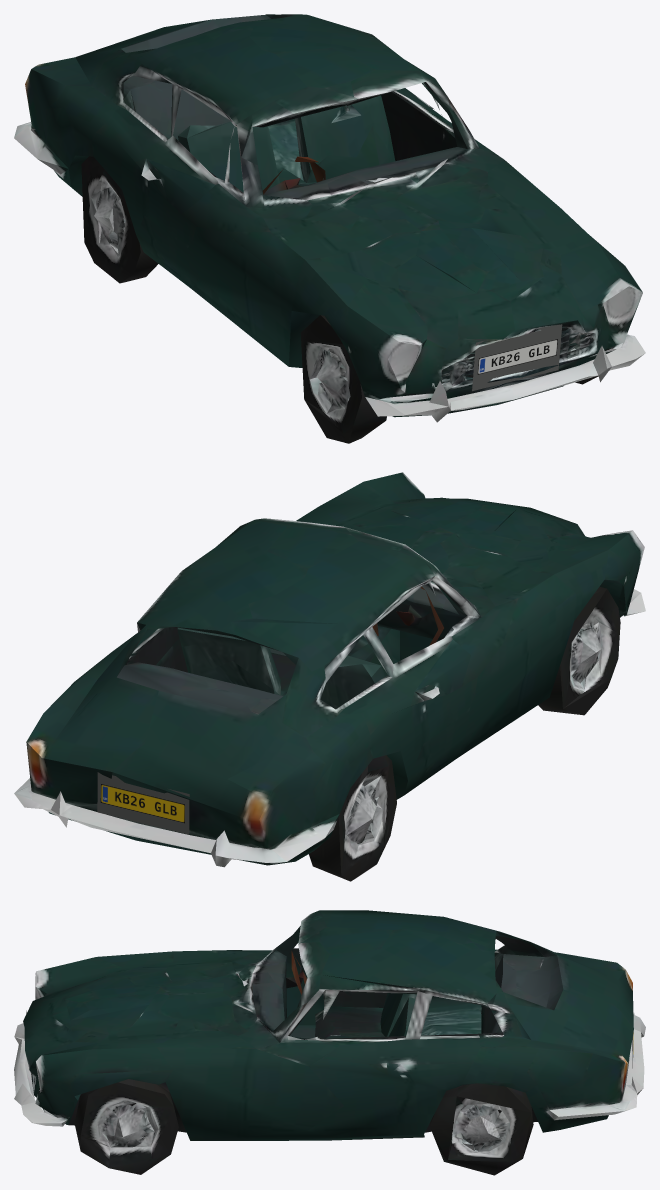
Rendered from car-classic-lod.glb.
3 views of the same model, one above another, from view 1: azimuth 30°, elevation 25°; view 2: azimuth 150°, elevation 25°; view 3: azimuth 270°, elevation 25° (orthographic). The views are drawn at different scales.
Visible parts, largest first — view 1: body, wheel_FR_mesh, wheel_RR_mesh; view 2: body, wheel_RR_mesh, wheel_FR_mesh; view 3: body, wheel_RL_mesh, wheel_FL_mesh.
Part boxes in pixels (box(x1,y1,x2,y2)): body: box(14, 14, 645, 443); wheel_FR_mesh: box(309, 349, 350, 419); wheel_RR_mesh: box(91, 181, 125, 256); body: box(14, 472, 645, 881); wheel_RR_mesh: box(345, 775, 385, 854); wheel_FR_mesh: box(570, 622, 602, 691); body: box(14, 910, 645, 1175); wheel_RL_mesh: box(452, 1104, 509, 1151); wheel_FL_mesh: box(106, 1108, 157, 1147).
Bounding box in the file's own units: 1.89 × 1.5 × 4.5.
3 materials, 2 textured.
